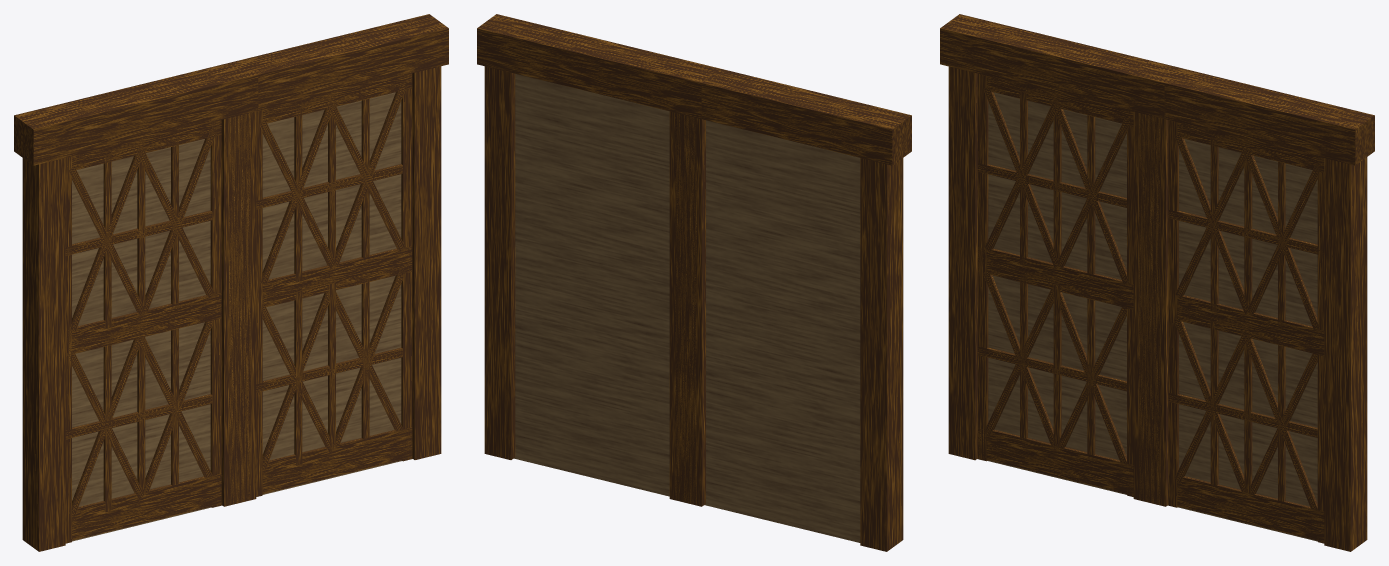
The model's file is Door Double.fbx.
3 renders of one model, left to right at view 1: azimuth 30°, elevation 25°; view 2: azimuth 150°, elevation 25°; view 3: azimuth 330°, elevation 25°, orthographic.
Parts seen in each view (by area): view 1: Cube.010; view 2: Cube.010; view 3: Cube.010.
Boxes of the visible parts, x1,y1,x2,y2 form: Cube.010: (14,14,448,551); Cube.010: (477,14,911,551); Cube.010: (940,14,1374,551).
Bounding box in the file's own units: 26.65 × 327 × 321.
